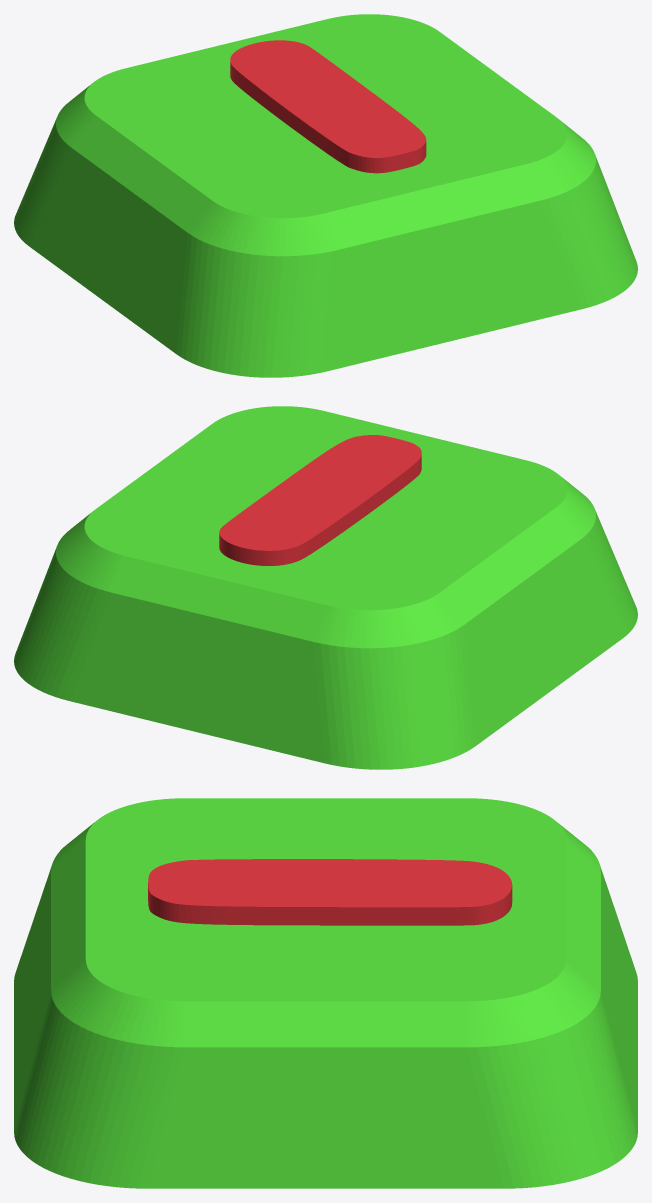
3 renders of one model, top to bottom at view 1: azimuth 30°, elevation 25°; view 2: azimuth 150°, elevation 25°; view 3: azimuth 270°, elevation 25°, orthographic. The views are drawn at different scales.
Visible parts, largest first — view 1: CAPS_I, FONT_I; view 2: CAPS_I, FONT_I; view 3: CAPS_I, FONT_I.
Part boxes in pixels (left/top/right/bottom): CAPS_I: left=14, top=14, right=637, bottom=377; FONT_I: left=230, top=40, right=426, bottom=173; CAPS_I: left=14, top=406, right=637, bottom=769; FONT_I: left=219, top=435, right=421, bottom=565; CAPS_I: left=14, top=798, right=637, bottom=1188; FONT_I: left=148, top=859, right=512, bottom=925.
Size of the model in its own units: 18 by 5.59 by 18.
